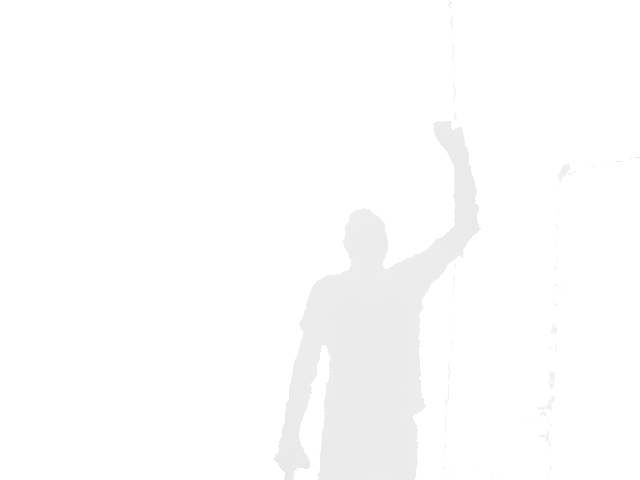hand: (432, 119, 473, 159)
head: (342, 206, 390, 270)
person: (273, 120, 482, 480)
